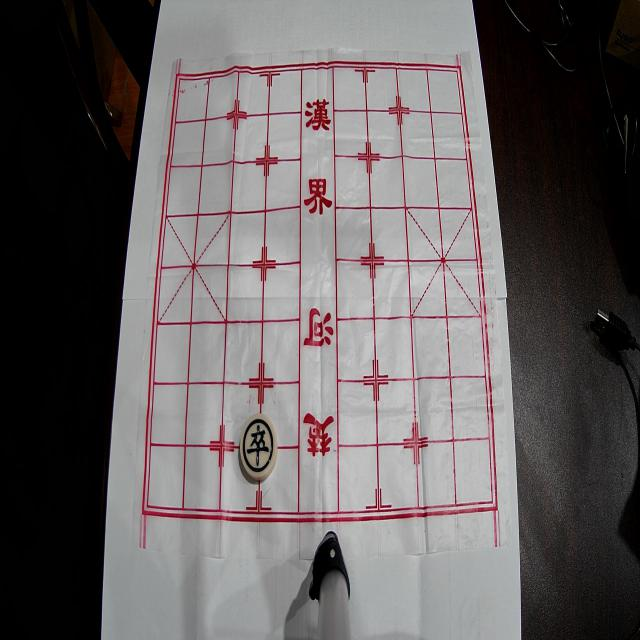black-soldier: (240, 414, 278, 479)
